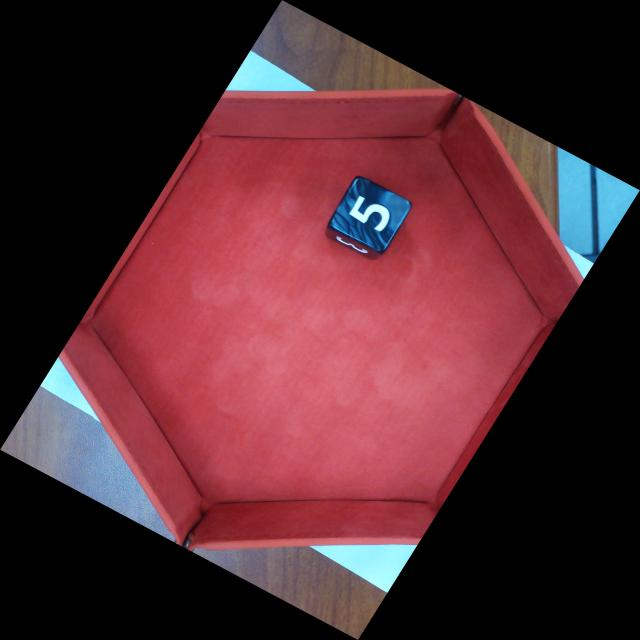dice: (326, 175, 414, 256)
